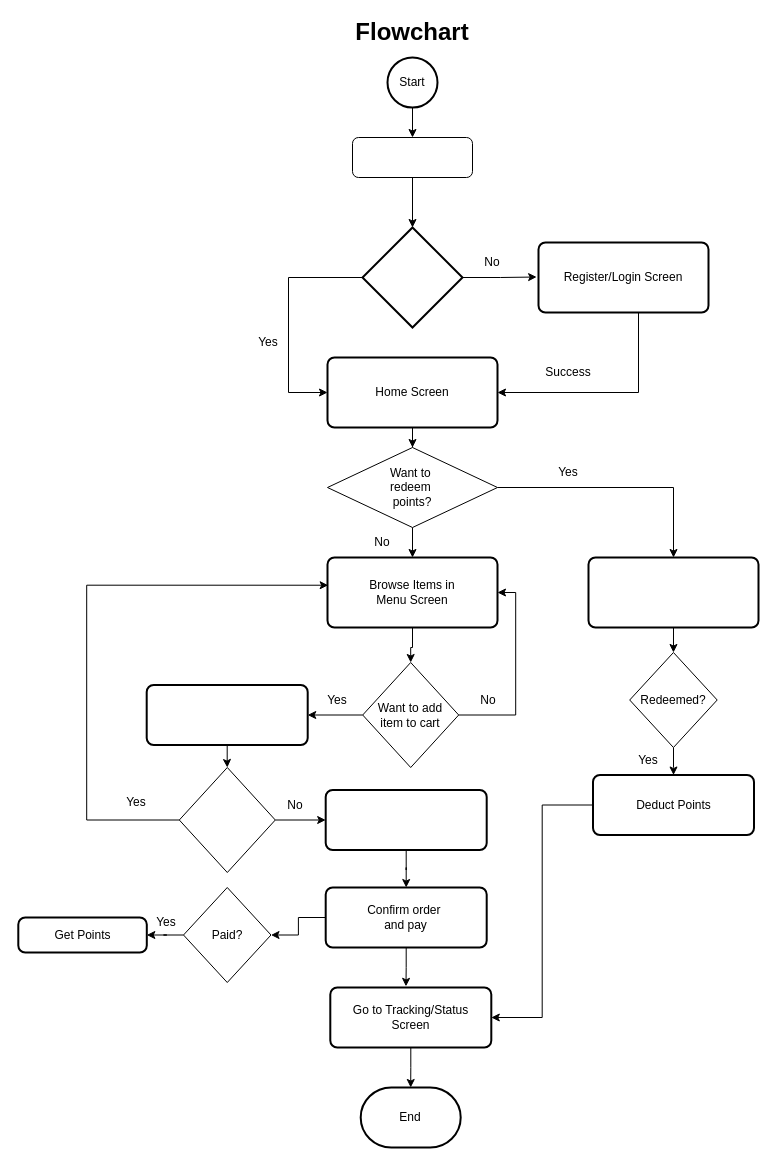
Image size: 777x1165. Some labels were removed from this diagram. Here are the shapes that lost their labels. From the top down, the centre of each, then its label:
(412,157): Open App
(412,277): Logged in?
(673,592): Go To Redeem Points Screen
(226,715): Items added to cart
(226,819): Need to add more items?
(405,819): Proceeed Checkout Screen
